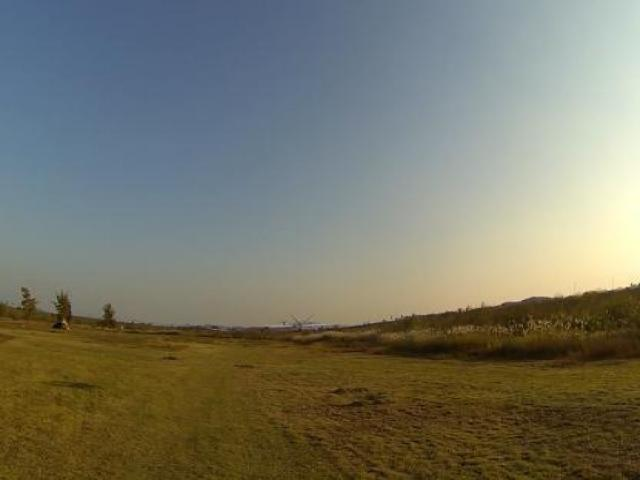uav: (263, 309, 334, 339)
